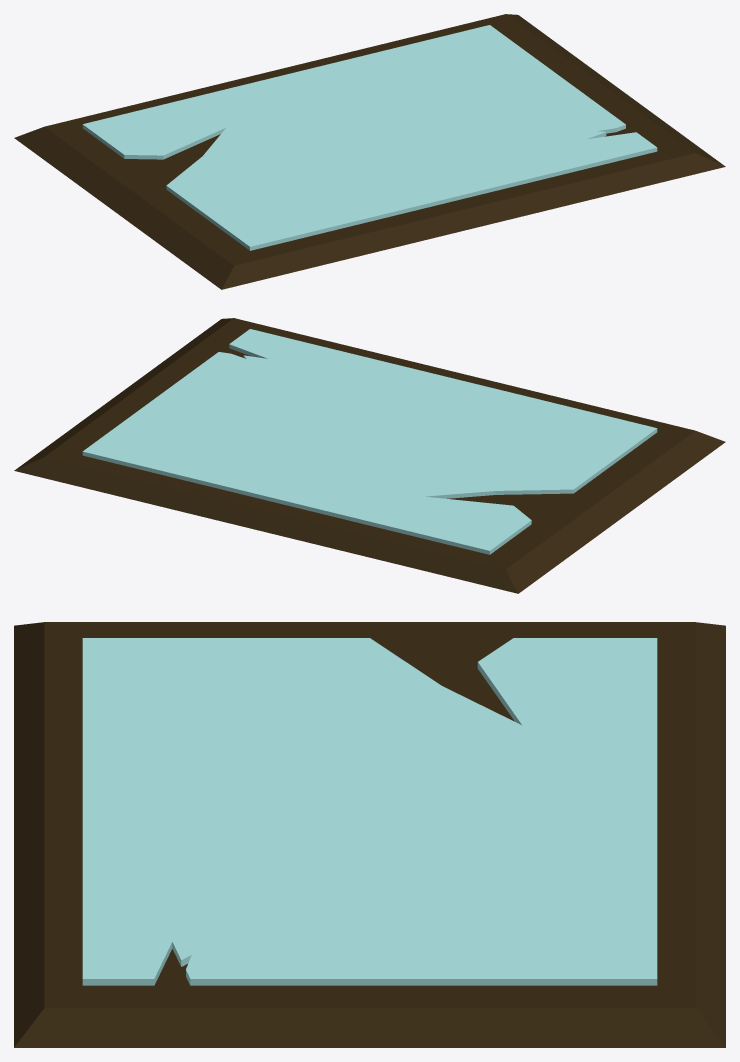
File: Mirror.fbx
3 renders of one model, top to bottom at view 1: azimuth 30°, elevation 25°; view 2: azimuth 150°, elevation 25°; view 3: azimuth 270°, elevation 25°, orthographic. The views are drawn at different scales.
Visible parts, largest first — view 1: Cube.001; view 2: Cube.001; view 3: Cube.001.
Part boxes in pixels (left/top/right/bottom): Cube.001: left=14, top=14, right=725, bottom=289; Cube.001: left=14, top=318, right=725, bottom=593; Cube.001: left=14, top=622, right=725, bottom=1047.
Size of the model in its own units: 153 by 4.8 by 109.
